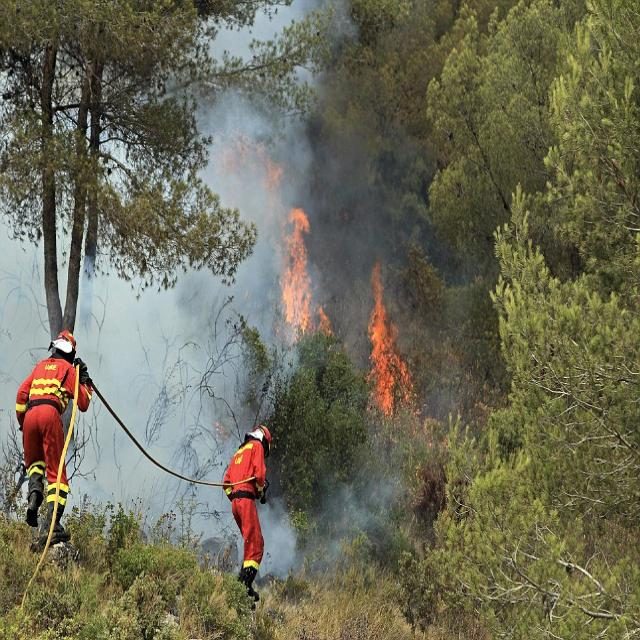fire: (369, 289, 399, 411), (282, 208, 312, 328)
smoke: (90, 266, 190, 502)
